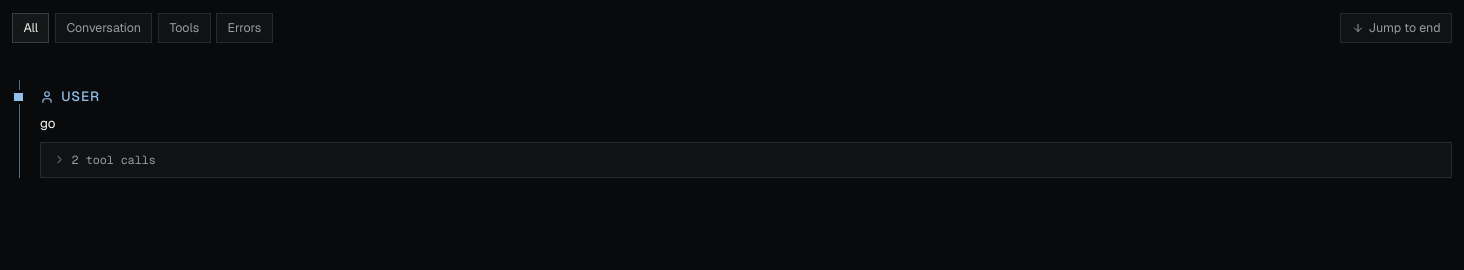
Test: work groups › folds a work group of any size so its rows start hidden
What coordinates should you click on to do the following:
click the button "2 tool calls"
I would click on:
 (114, 160)
Its box is top-left (41, 143), bottom-right (1451, 177).
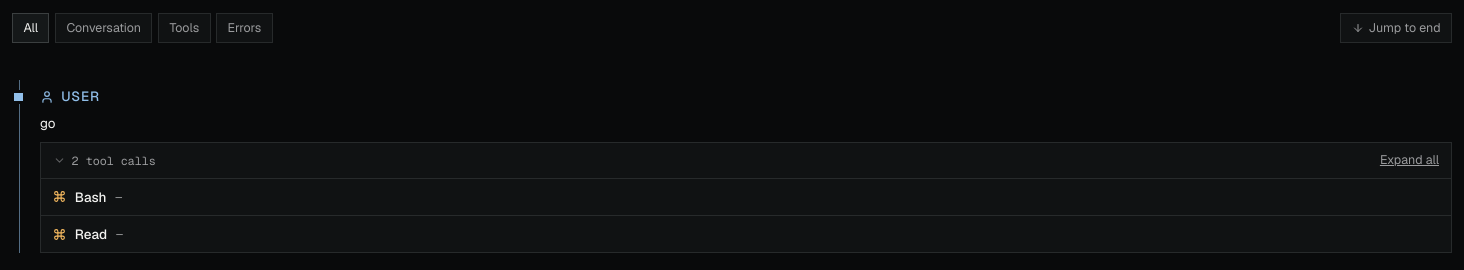
Check: the element with class "transcript-tool-rows" is shown, box top-left (41, 179), bottom-right (1451, 252)
